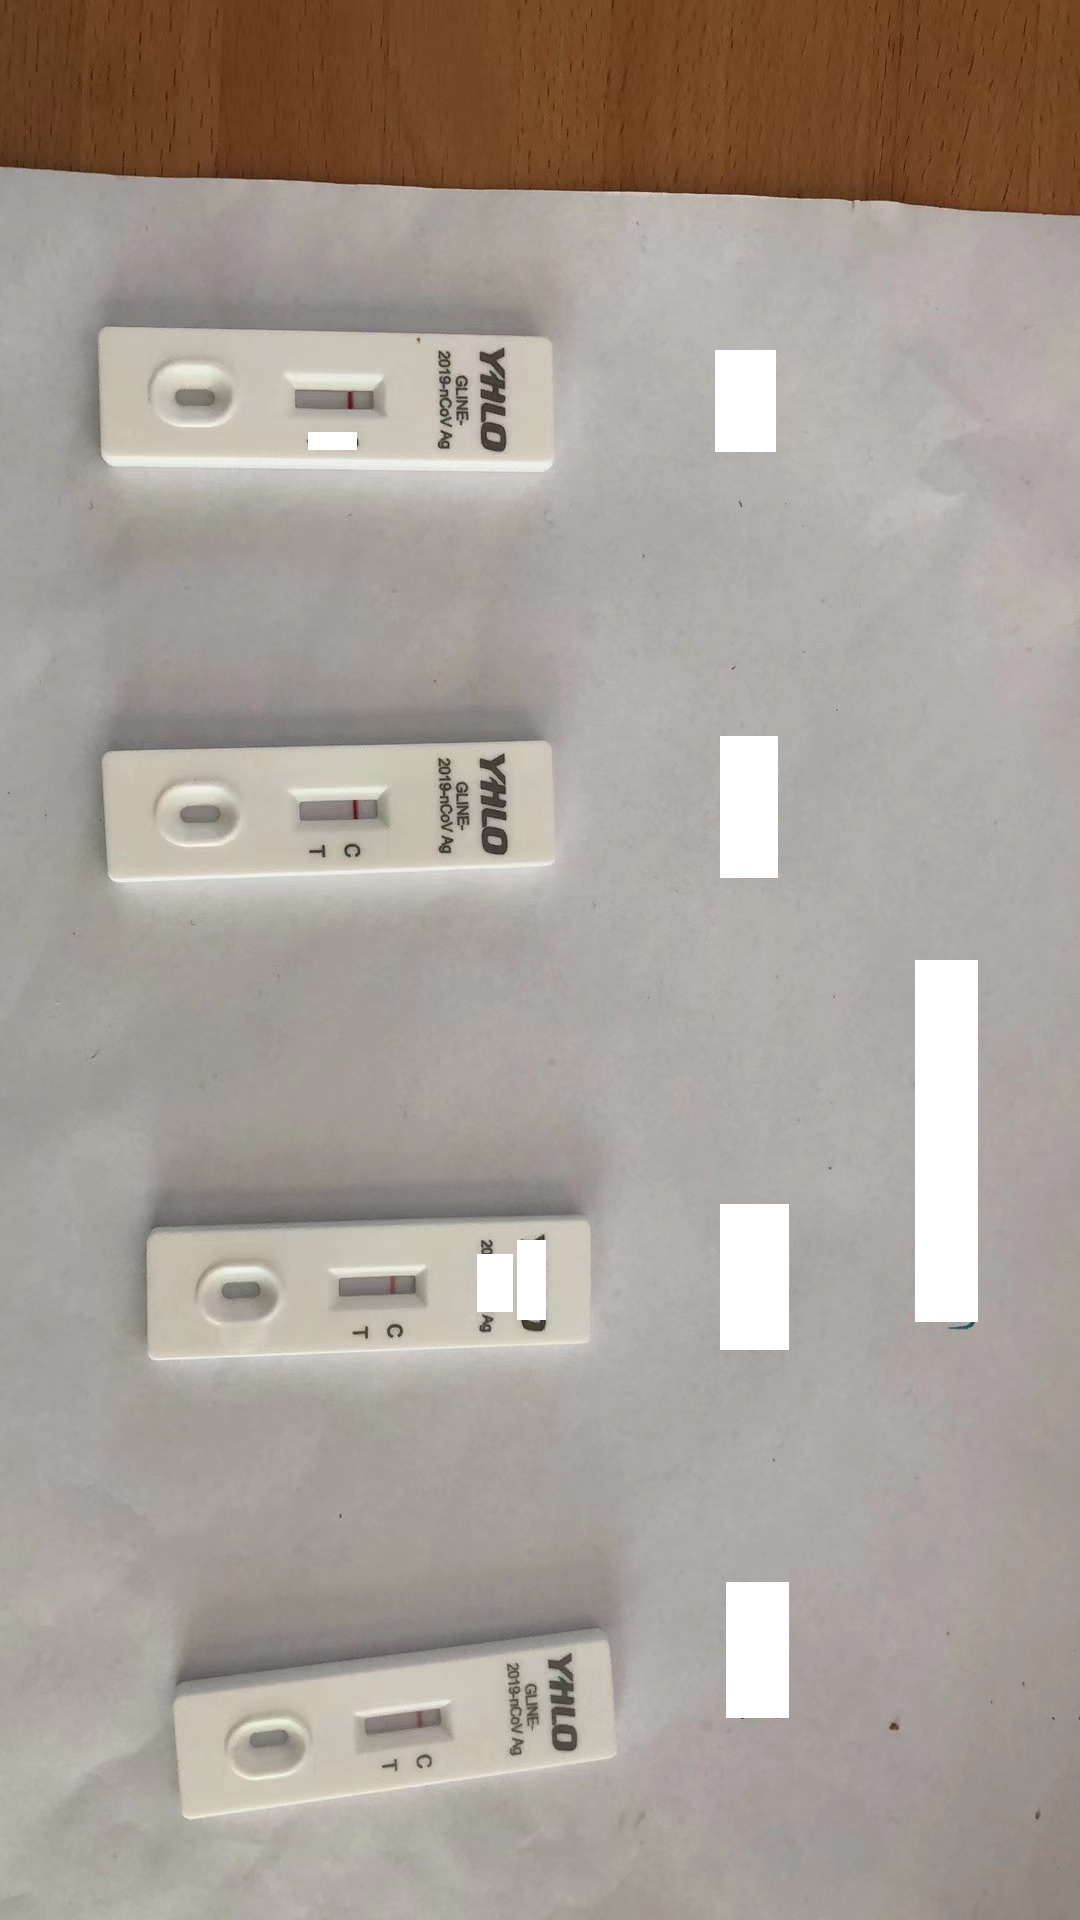negative: (287, 782, 392, 831), (282, 369, 388, 417)
